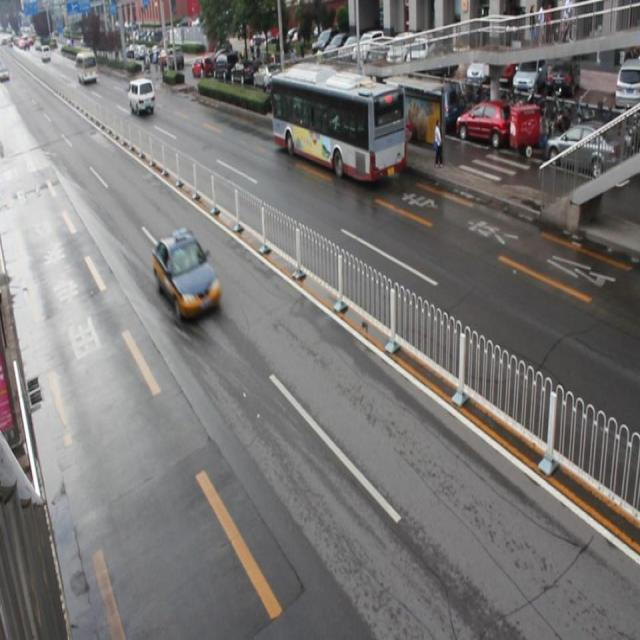car: (152, 232, 220, 319)
truck: (129, 78, 156, 114)
van: (270, 74, 404, 181)
